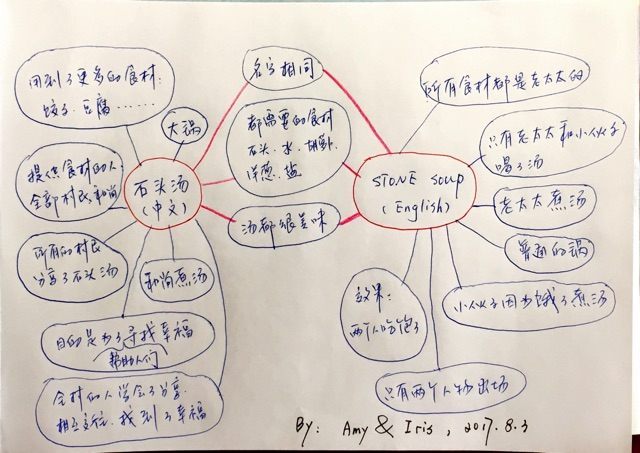circle: (32, 371, 226, 448), (12, 44, 176, 129), (223, 95, 353, 198), (37, 309, 215, 372), (477, 106, 627, 178), (417, 44, 591, 106), (350, 150, 478, 231), (440, 278, 616, 332), (13, 141, 125, 222), (339, 266, 430, 362), (15, 230, 129, 303), (375, 360, 528, 414), (122, 155, 202, 230), (226, 201, 341, 249), (492, 183, 596, 231), (501, 230, 595, 273), (240, 44, 324, 91), (137, 256, 215, 304), (159, 105, 209, 145)
line: (195, 215, 228, 392), (322, 69, 390, 154), (194, 82, 248, 170), (120, 226, 152, 315), (425, 225, 443, 367), (401, 101, 439, 151), (453, 217, 503, 251), (443, 222, 465, 288), (101, 218, 142, 245), (400, 227, 419, 284), (198, 201, 234, 220), (126, 124, 142, 164), (200, 176, 236, 187), (338, 210, 362, 226), (167, 223, 177, 259), (170, 142, 185, 162), (106, 201, 130, 213), (342, 160, 358, 177), (468, 153, 484, 165), (473, 201, 495, 209)
